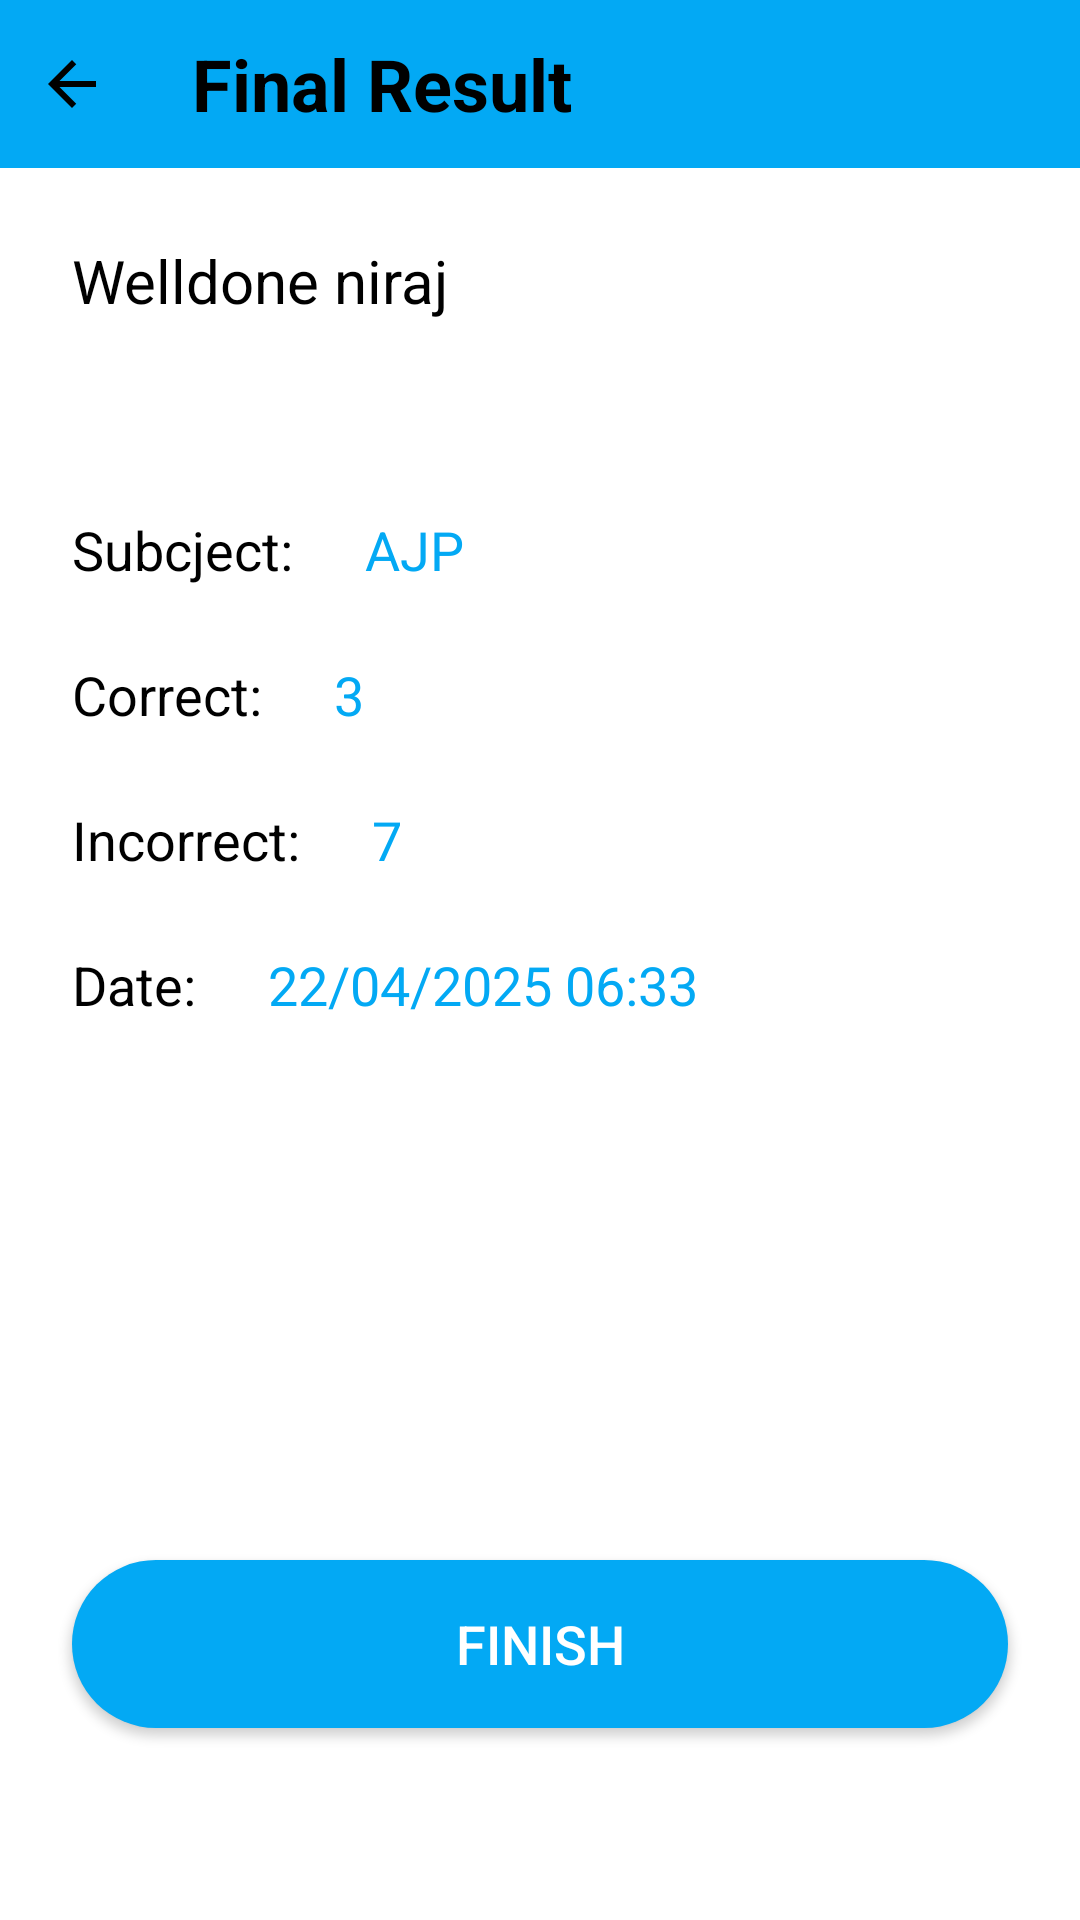

Where to tap for icons on this 1080 x 1920 app screen, as [x,y]:
Back: [72,84]
